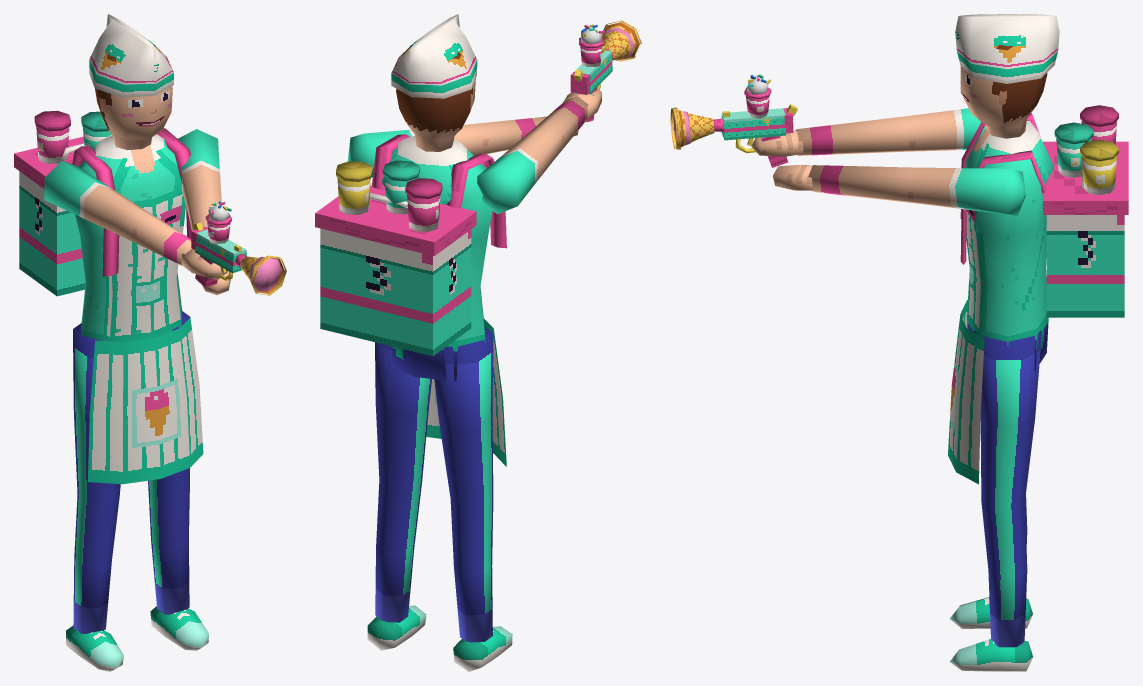
File: Player Mint.fbx
3 views of the same model, side by side, from view 1: azimuth 30°, elevation 25°; view 2: azimuth 150°, elevation 25°; view 3: azimuth 270°, elevation 25° (orthographic). The views are drawn at different scales.
Parts seen in each view (by area): view 1: Player Mint apron, Player Mint torso, Player Mint leg R.001, Player Mint arm R arm, Player Mint cooler, Player Mint leg L.001, Player Mint hat, Player Mint head, Player Mint arm L arm, Player Mint shoe L, Player Mint shoe R, Player Mint strap -1 (+9 smaller); view 2: Player Mint cooler, Player Mint leg R.001, Player Mint leg L.001, Player Mint torso, Player Mint arm R arm, Player Mint hat, Player Mint cooler lid, Player Mint head, Player Mint arm L arm, Player Mint apron, Player Mint strap -1, Player Mint shoe R (+10 smaller); view 3: Player Mint leg L.001, Player Mint torso, Player Mint cooler, Player Mint arm L arm, Player Mint hat, Player Mint arm R arm, Player Mint apron, Player Mint head, Player Mint cooler lid, Player Mint shoe L, Player Mint body, Player Mint pint 2 (+9 smaller).
Part boxes in pixels (x1,y1,x2,y2): Player Mint apron: (88, 317, 203, 484); Player Mint torso: (75, 134, 185, 342); Player Mint leg R.001: (73, 323, 120, 633); Player Mint arm R arm: (44, 161, 191, 265); Player Mint cooler: (19, 171, 85, 296); Player Mint leg L.001: (148, 311, 190, 614); Player Mint hat: (89, 14, 173, 97); Player Mint head: (95, 44, 172, 149); Player Mint arm L arm: (178, 129, 221, 230); Player Mint shoe L: (150, 606, 208, 650); Player Mint shoe R: (66, 625, 123, 671); Player Mint strap -1: (72, 146, 119, 276); Player Mint cooler: (320, 228, 471, 356); Player Mint leg R.001: (434, 327, 493, 642); Player Mint leg L.001: (375, 342, 431, 622); Player Mint torso: (372, 135, 492, 381); Player Mint arm R arm: (477, 96, 588, 214); Player Mint hat: (391, 14, 477, 98); Player Mint cooler lid: (315, 185, 476, 256); Player Mint head: (396, 45, 475, 151); Player Mint arm L arm: (347, 117, 543, 177); Player Mint apron: (426, 318, 506, 466); Player Mint strap -1: (446, 153, 506, 248); Player Mint shoe R: (453, 626, 512, 671); Player Mint leg L.001: (973, 330, 1041, 647); Player Mint torso: (965, 121, 1053, 370); Player Mint cooler: (1046, 215, 1124, 317); Player Mint arm L arm: (808, 165, 1025, 215); Player Mint hat: (955, 14, 1059, 83); Player Mint arm R arm: (795, 108, 985, 155); Player Mint apron: (948, 300, 984, 484); Player Mint head: (960, 45, 1047, 138); Player Mint cooler lid: (1043, 141, 1128, 214); Player Mint shoe L: (950, 639, 1032, 671); Player Mint body: (721, 108, 786, 140); Player Mint pint 2: (1081, 155, 1117, 194).
Size of the model in its own units: 0.5216 by 1.8 by 1.18.
32 materials, 31 textured.
